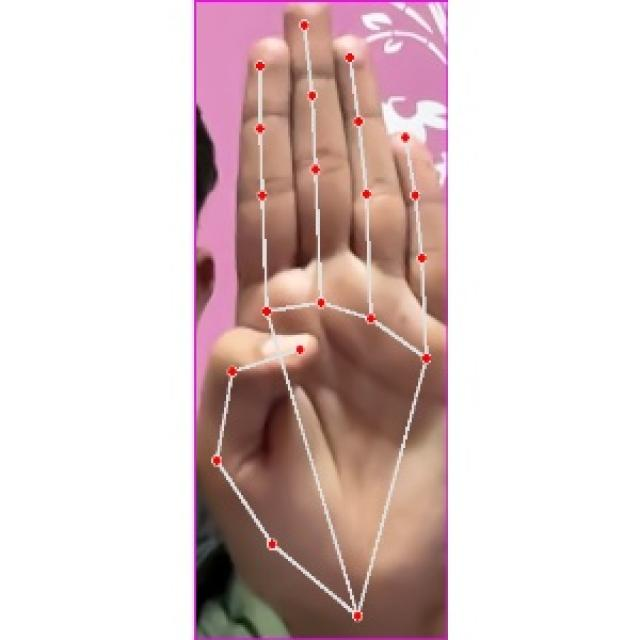B: (200, 1, 440, 635)
